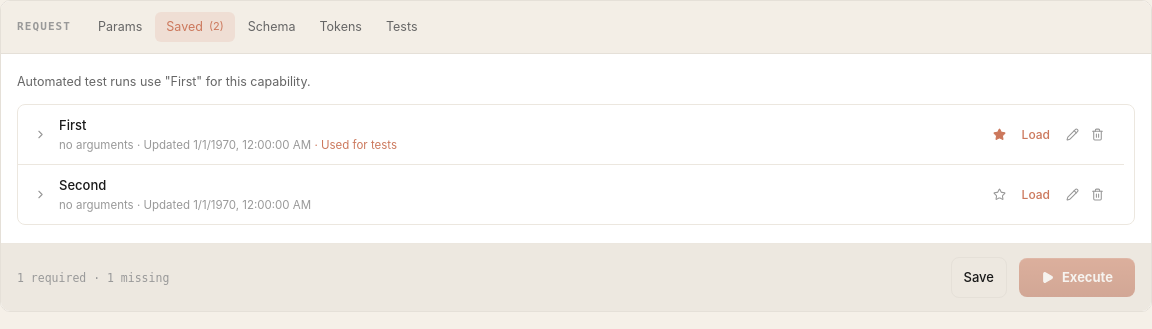
Scenario: ToolRequestPanel — Saved tab › with a stubbed testing API › marking a different request switches the mark (only one at a time)
Check: the text "First" is shown, box [59,117,86,133]
Click the button named "Use Second for tests".
click(999, 195)  # box [989,184,1010,205]
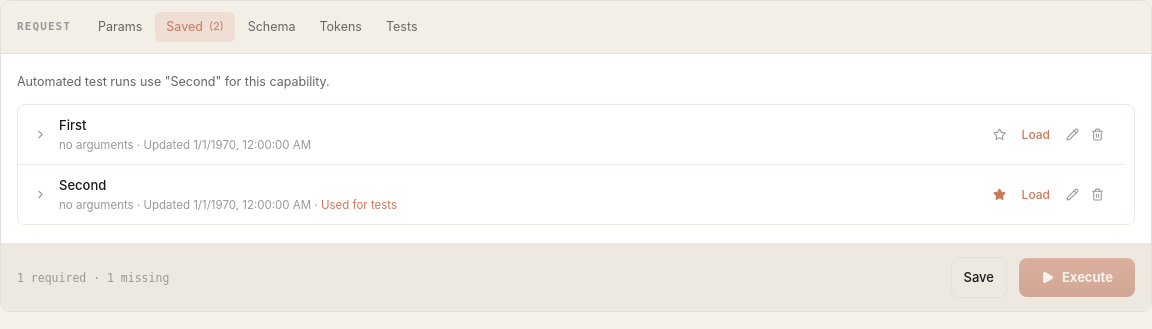
Check: the text "Automated test runs use \"Second\" for this capability." is shown, box [17,74,330,89]
